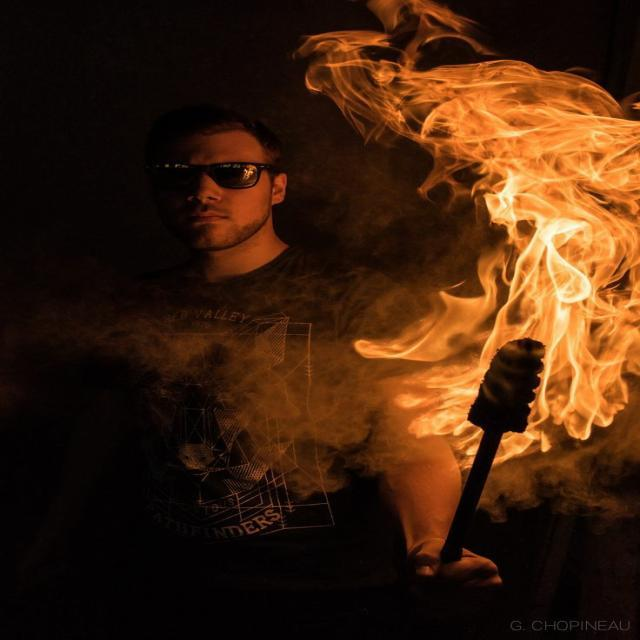Fire: (426, 0, 640, 472)
